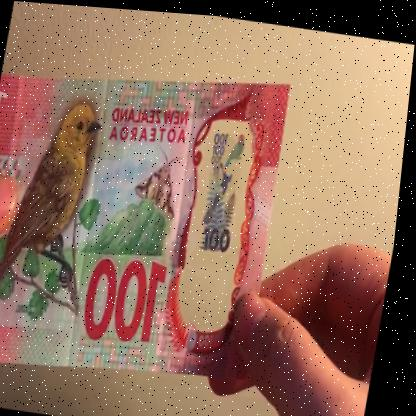100B: (187, 120, 257, 302)
